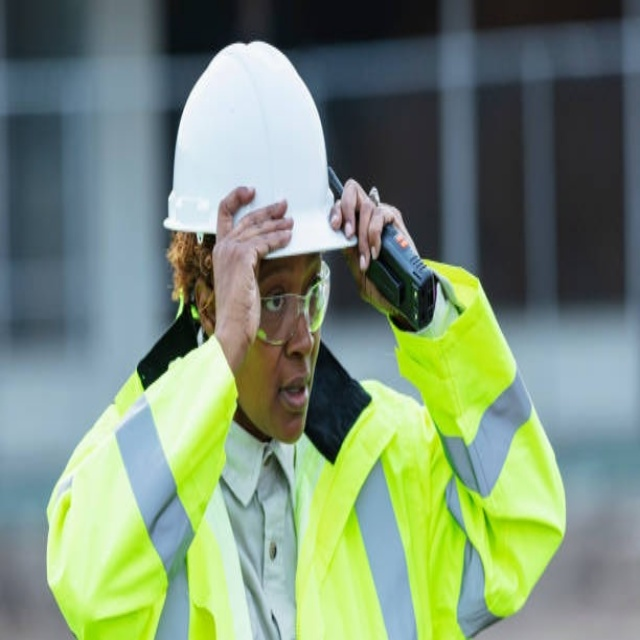Gafas: (253, 262, 331, 342)
Sin_guantes: (205, 184, 296, 377), (329, 176, 407, 297)
Sin_mascara: (278, 379, 310, 410)
